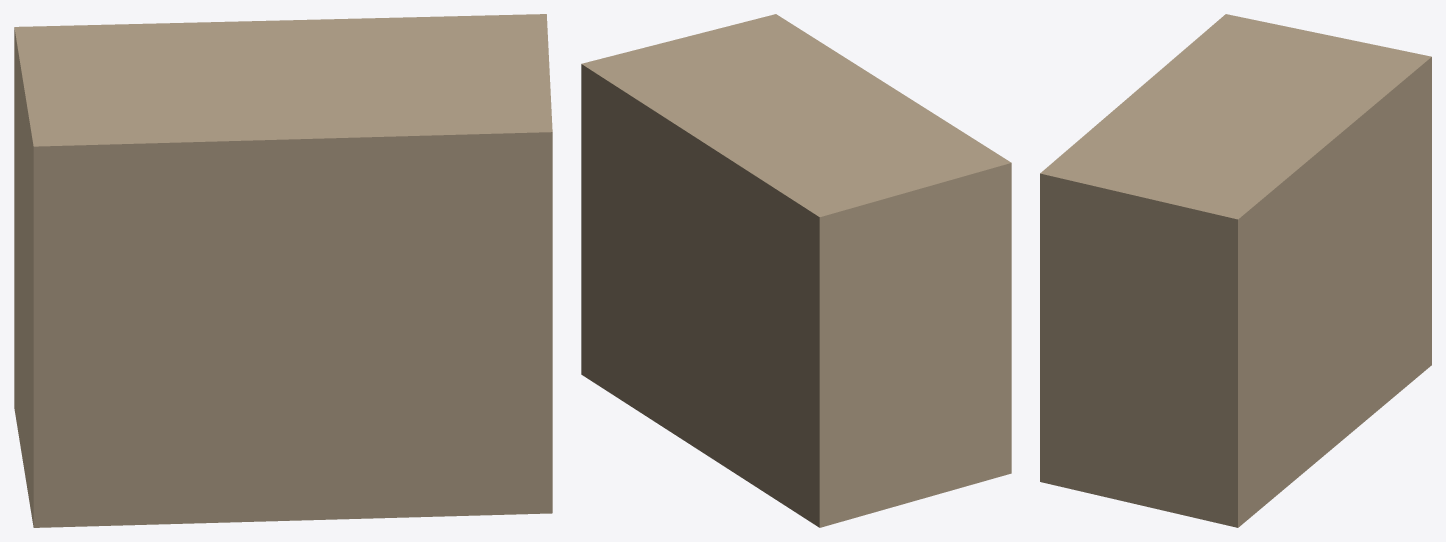
File: bld_99616063.dae
3 views of the same model, side by side, from view 1: azimuth 30°, elevation 25°; view 2: azimuth 150°, elevation 25°; view 3: azimuth 270°, elevation 25° (orthographic). The views are drawn at different scales.
Parts seen in each view (by area): view 1: bld_99616063; view 2: bld_99616063; view 3: bld_99616063.
Part boxes in pixels (bbox=[...]): bld_99616063: bbox=[14, 14, 552, 527]; bld_99616063: bbox=[581, 14, 1011, 527]; bld_99616063: bbox=[1040, 14, 1431, 527].
Bounding box in the file's own units: 11.43 × 9.21 × 8.
